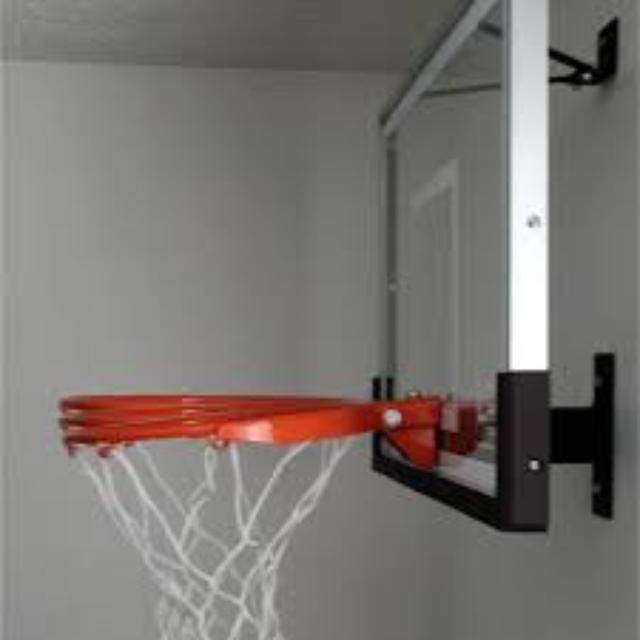rim: (61, 392, 375, 640)
